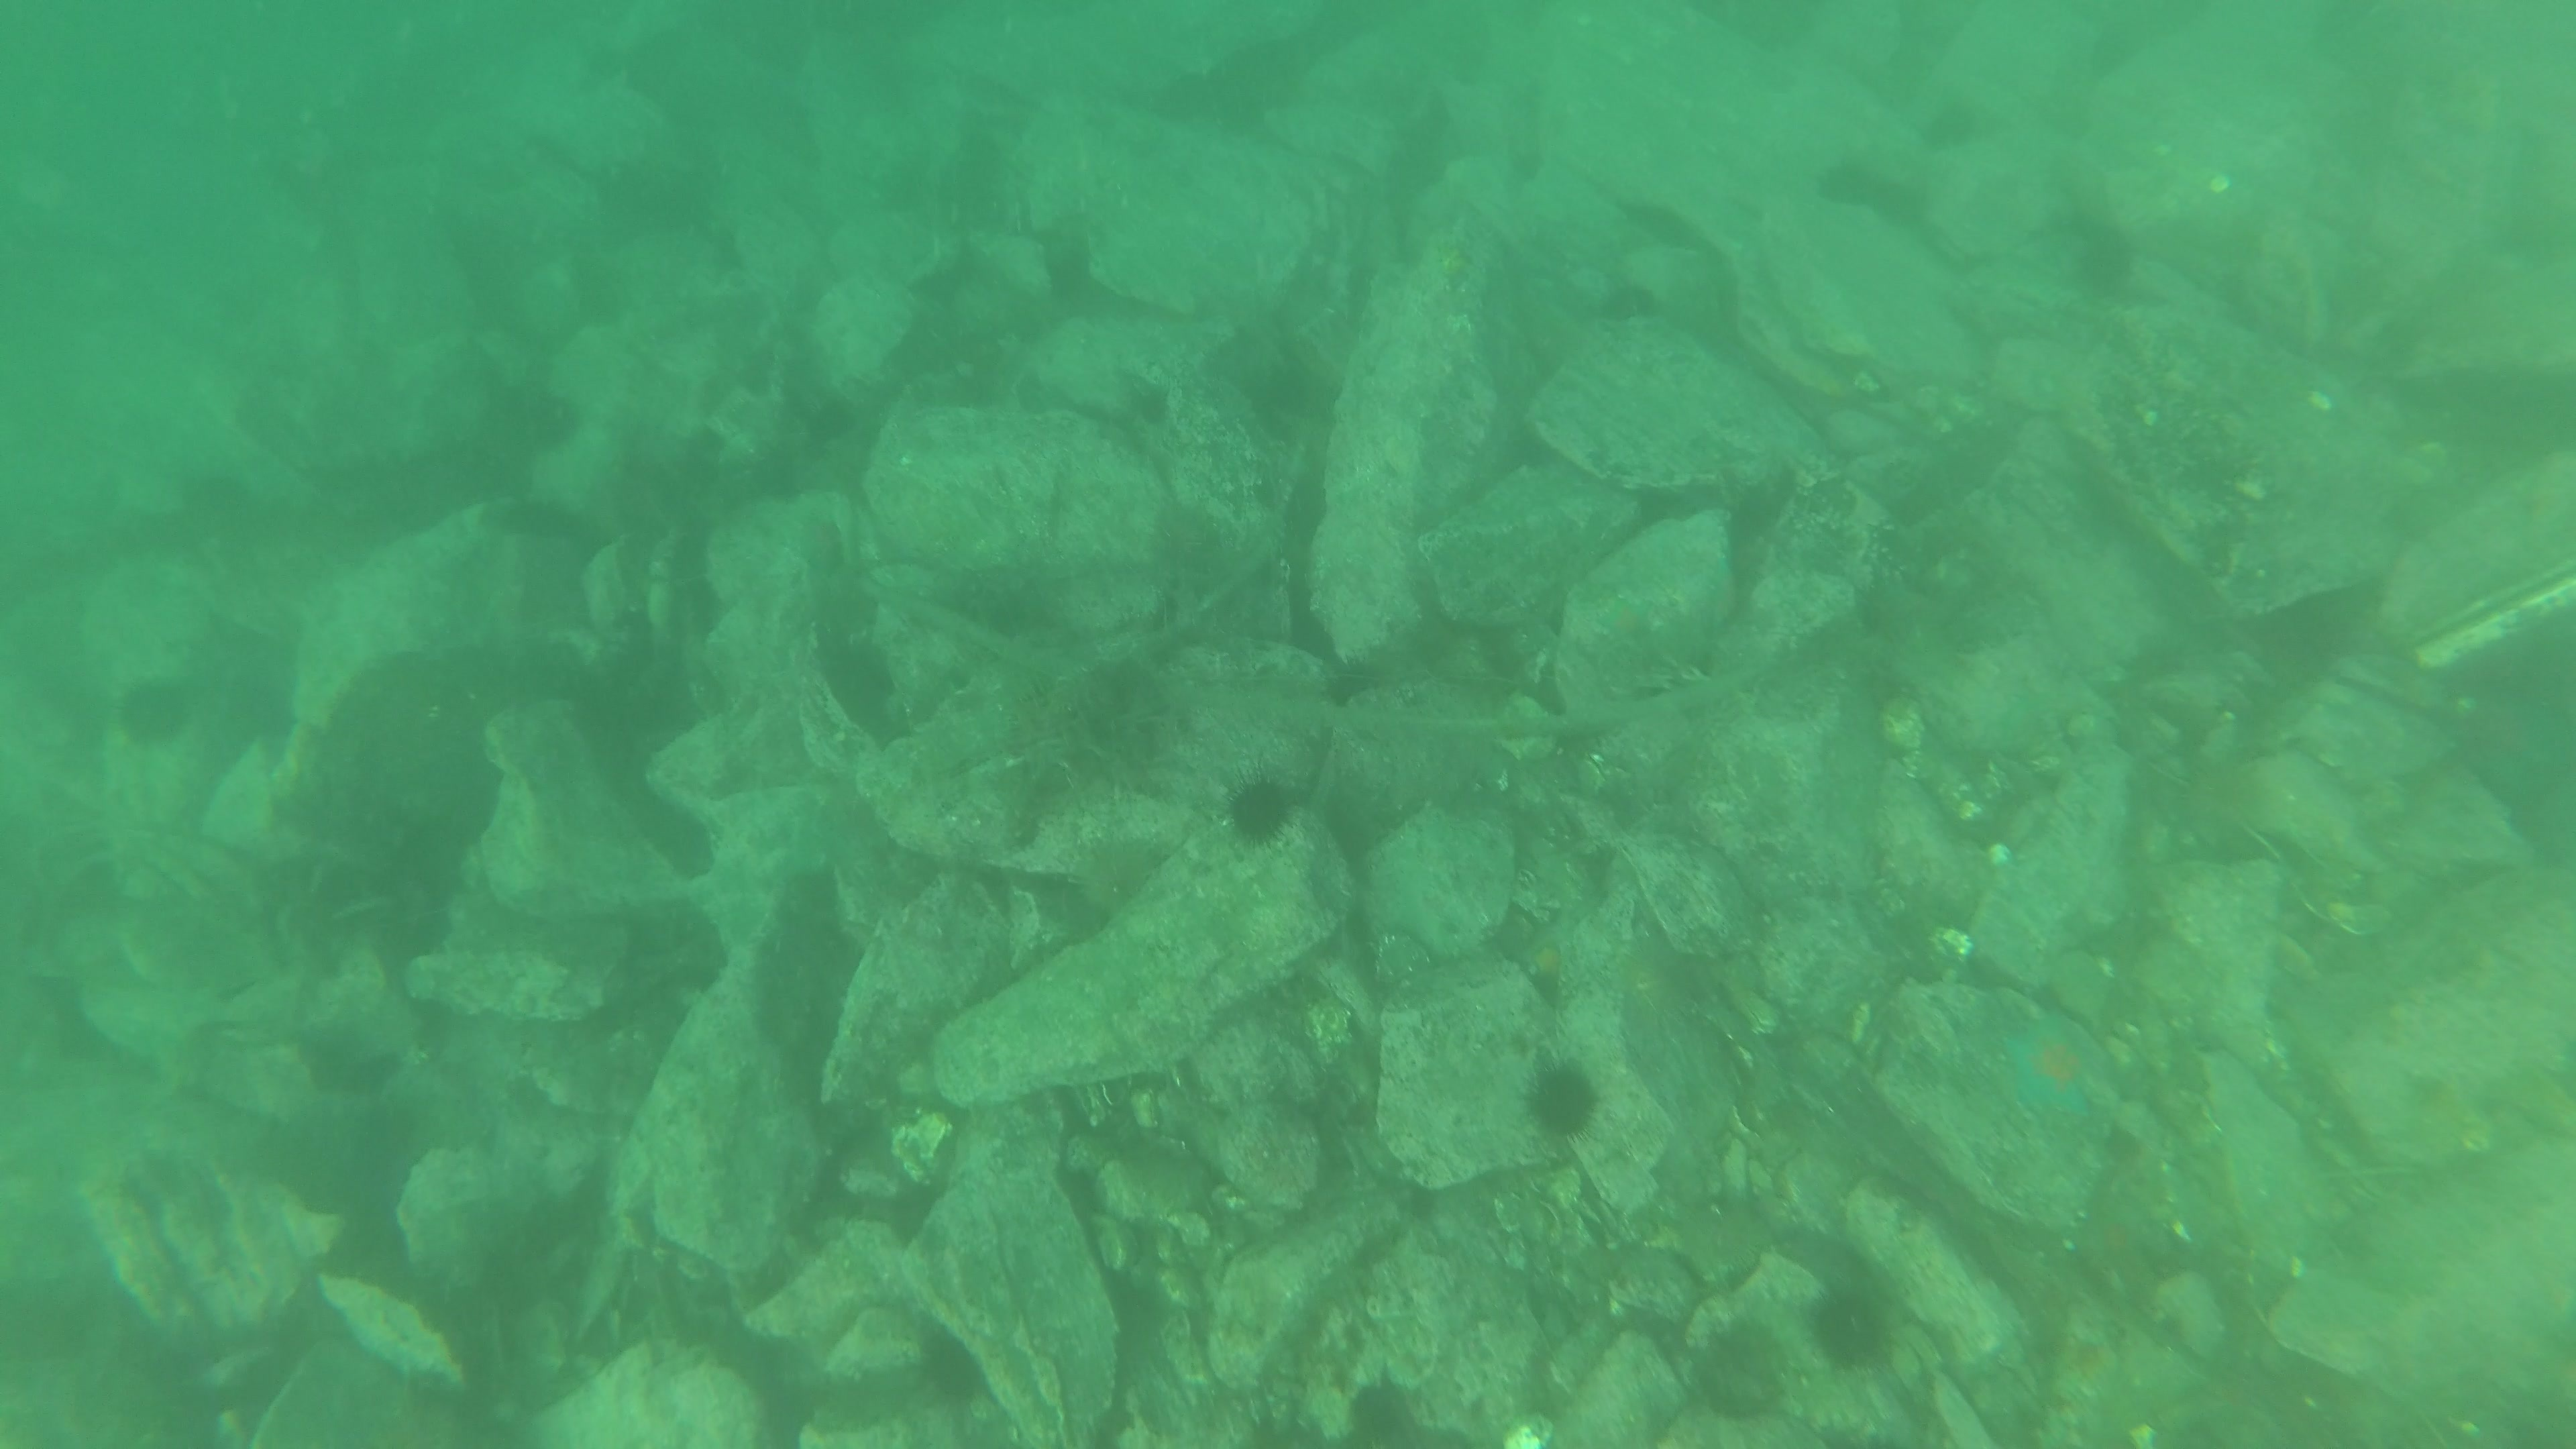echinus: (1683, 1322, 1801, 1430), (1518, 1049, 1621, 1162), (2059, 189, 2162, 303), (1799, 1276, 1897, 1380), (170, 460, 267, 550), (1219, 764, 1306, 855), (113, 672, 203, 757), (506, 377, 589, 467), (1902, 96, 1990, 175), (1794, 142, 1881, 221), (1854, 165, 1943, 242), (1330, 1378, 1415, 1449)
starfish: (2001, 1008, 2104, 1123)
